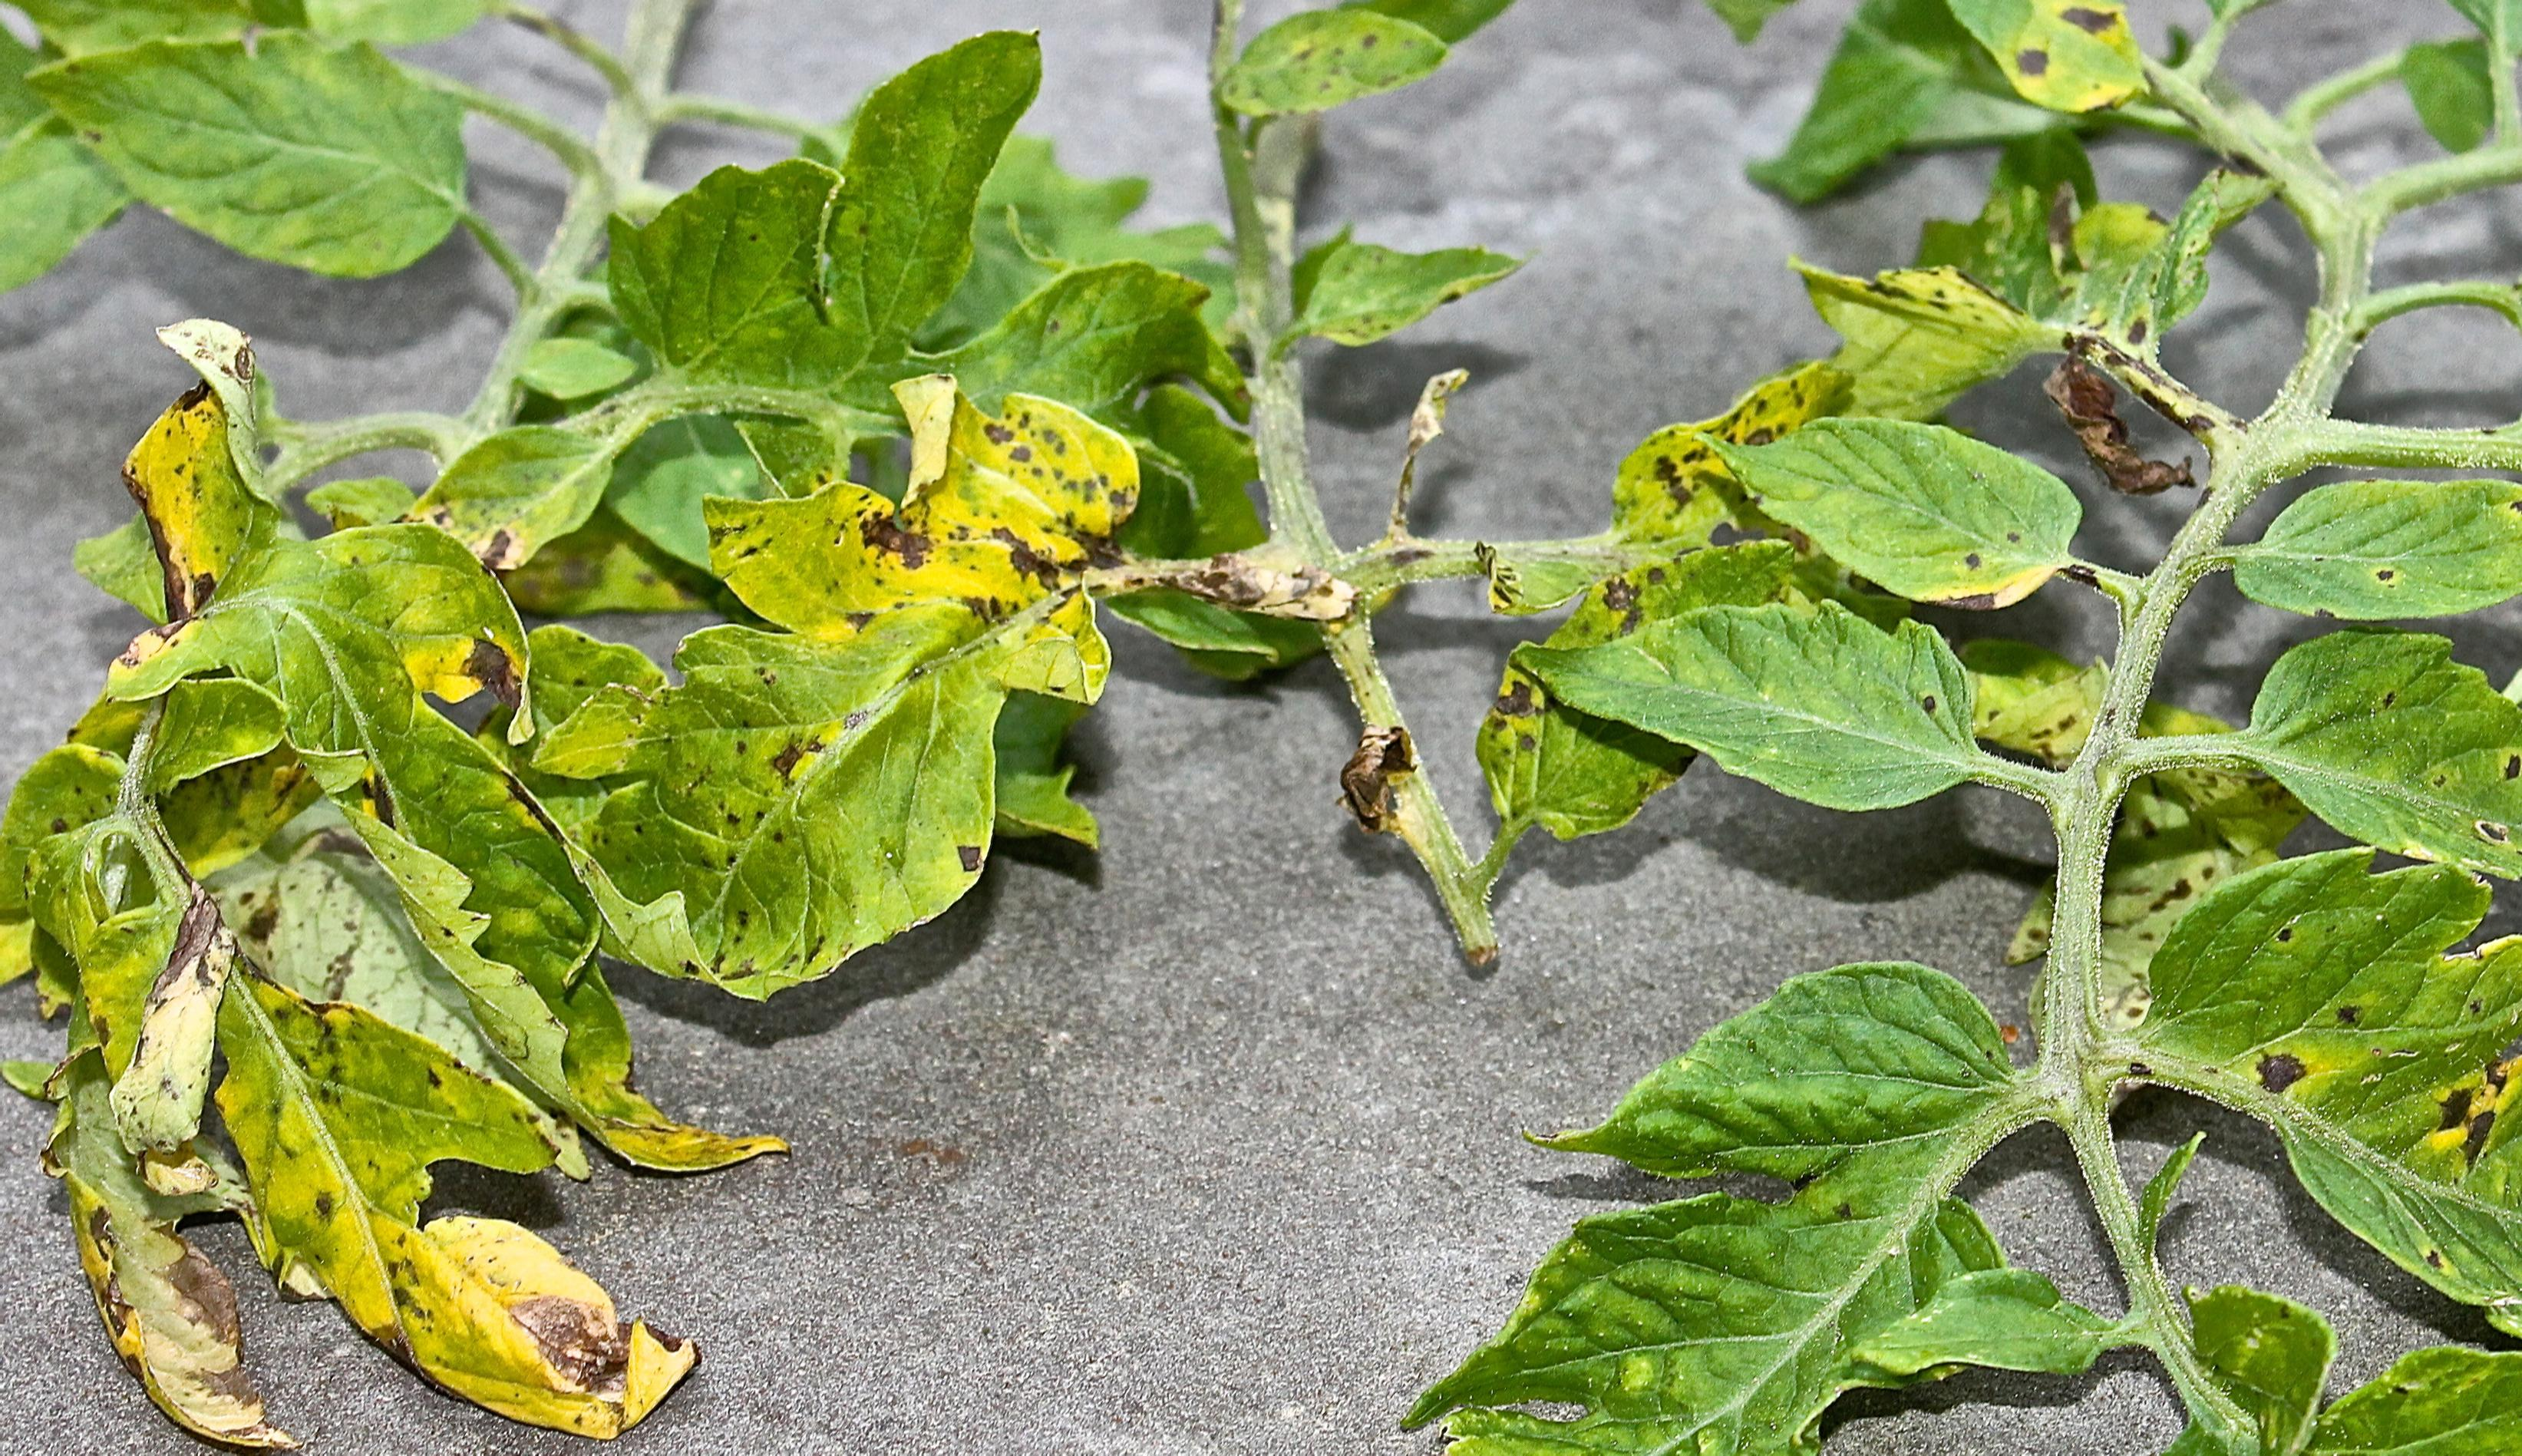Tomato Septoria leaf spot: (1303, 991, 2051, 1456), (591, 418, 1203, 979), (144, 881, 707, 1433), (2118, 861, 2522, 1349)
